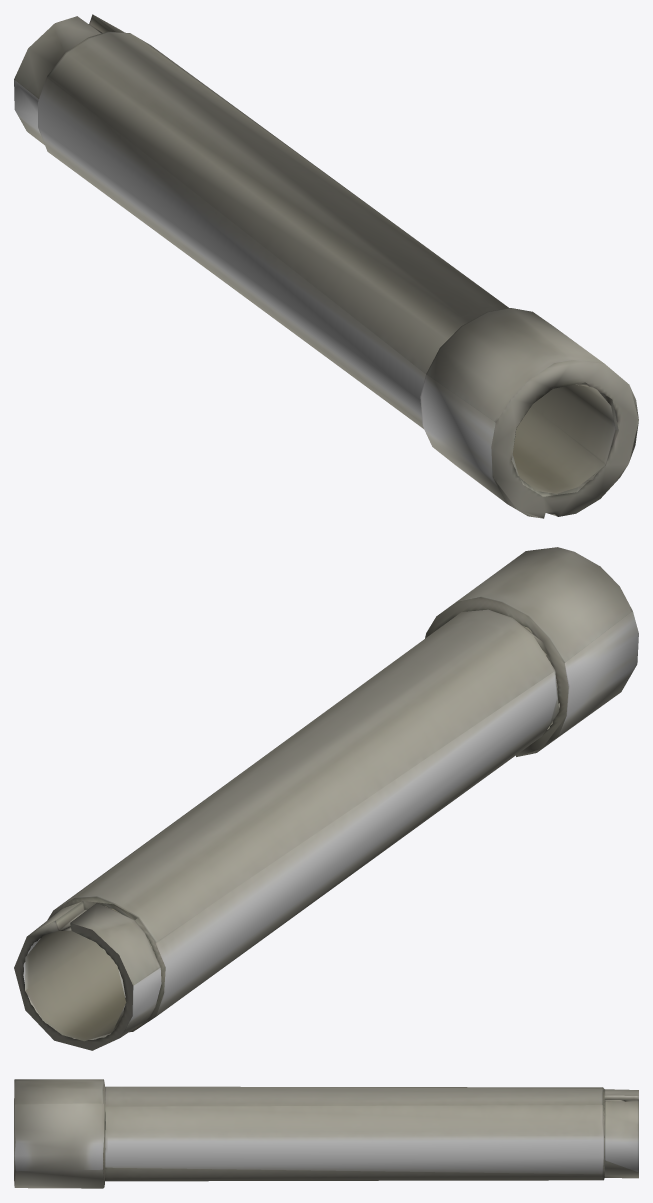
3 views of the same model, one above another, from view 1: azimuth 30°, elevation 25°; view 2: azimuth 150°, elevation 25°; view 3: azimuth 270°, elevation 25° (orthographic). The views are drawn at different scales.
Parts seen in each view (by area): view 1: Eje.017_Mesh.1335; view 2: Eje.017_Mesh.1335; view 3: Eje.017_Mesh.1335.
Part boxes in pixels (left/top/right/bottom): Eje.017_Mesh.1335: left=14, top=14, right=638, bottom=518; Eje.017_Mesh.1335: left=14, top=547, right=638, bottom=1050; Eje.017_Mesh.1335: left=14, top=1079, right=638, bottom=1188.
Bounding box in the file's own units: 0.0455 × 0.0456 × 0.2613.
1 material, 1 textured.
